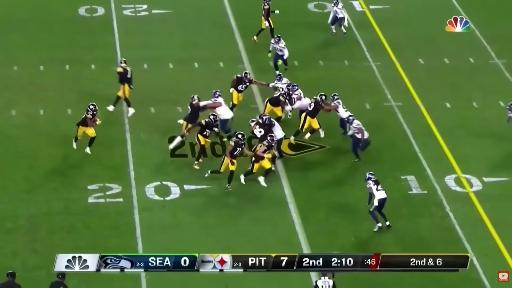Helmet: (365, 171, 376, 181), (330, 93, 341, 103), (236, 132, 245, 143), (88, 102, 97, 112), (120, 57, 129, 67), (318, 92, 327, 102), (347, 115, 356, 124), (209, 113, 217, 123), (261, 115, 271, 123), (268, 134, 275, 145), (191, 95, 201, 102), (292, 83, 299, 93), (276, 74, 283, 83), (213, 90, 222, 97), (250, 118, 257, 127), (275, 34, 281, 44), (244, 71, 250, 81), (332, 0, 339, 6), (286, 88, 291, 96), (263, 0, 271, 3)
Jersey: (202, 98, 233, 119), (251, 120, 271, 142), (367, 180, 387, 200), (232, 75, 253, 93), (184, 101, 201, 123), (350, 120, 369, 138), (198, 120, 217, 138), (270, 39, 288, 58), (77, 110, 97, 127), (333, 100, 351, 118), (229, 141, 245, 159), (271, 119, 285, 139), (306, 101, 322, 118), (289, 89, 304, 106), (118, 67, 132, 85), (274, 78, 290, 93), (293, 97, 311, 110), (267, 94, 284, 107), (333, 3, 345, 18), (260, 141, 273, 154), (262, 0, 270, 20), (292, 89, 304, 101), (507, 103, 512, 117)
Player: (206, 132, 253, 190), (168, 95, 211, 149), (240, 134, 275, 186), (186, 113, 218, 169), (290, 94, 326, 143), (107, 59, 135, 117), (201, 90, 233, 139), (230, 71, 269, 110), (366, 172, 391, 231), (73, 103, 101, 153), (325, 94, 353, 134), (253, 0, 279, 42), (347, 116, 370, 161), (179, 95, 202, 133), (286, 84, 311, 118), (269, 35, 288, 73), (329, 0, 348, 36), (264, 94, 286, 122), (250, 117, 271, 143), (271, 119, 285, 158), (270, 73, 291, 95), (270, 73, 290, 93), (507, 103, 511, 123)
